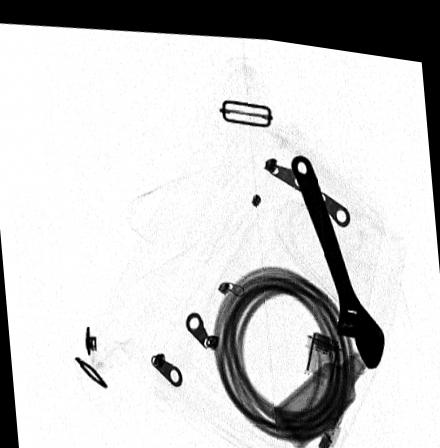Wrench: (292, 145, 383, 357)
